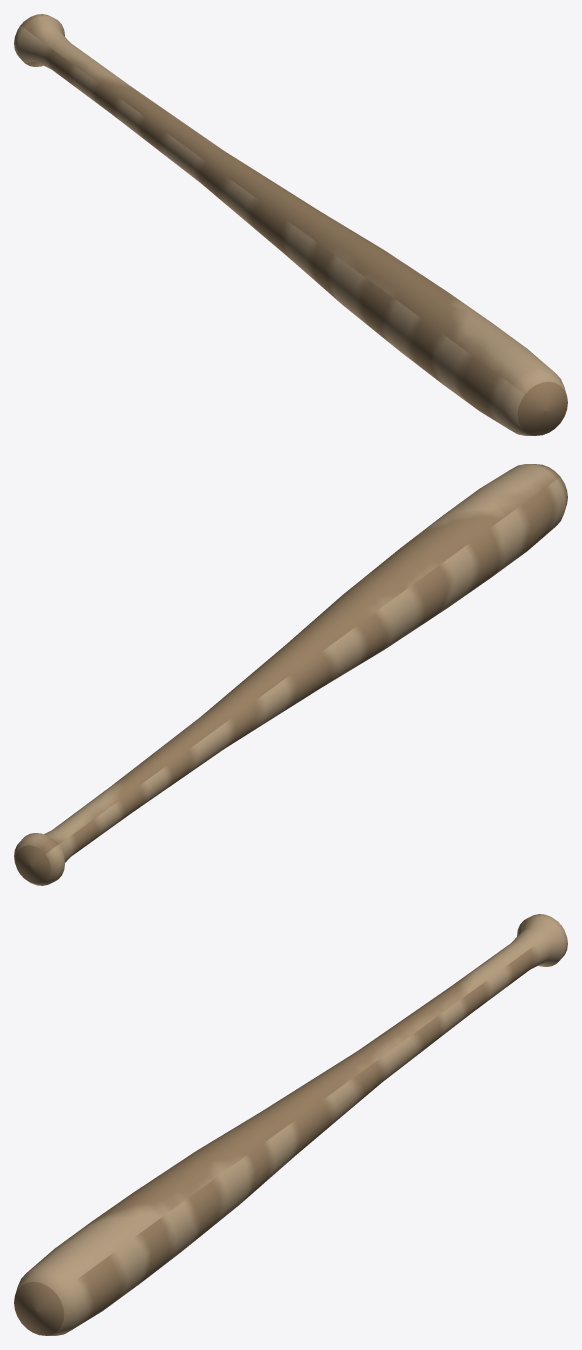
File: PRP_BaseballBat.fbx
3 views of the same model, one above another, from view 1: azimuth 30°, elevation 25°; view 2: azimuth 150°, elevation 25°; view 3: azimuth 330°, elevation 25° (orthographic).
Visible parts, largest first — view 1: PRP_BaseballBat; view 2: PRP_BaseballBat; view 3: PRP_BaseballBat.
Part boxes in pixels (x1,y1,x2,y2): PRP_BaseballBat: [14, 14, 567, 435]; PRP_BaseballBat: [14, 464, 567, 885]; PRP_BaseballBat: [14, 914, 567, 1335].
Size of the model in its own units: 6.5 by 6.5 by 85.
